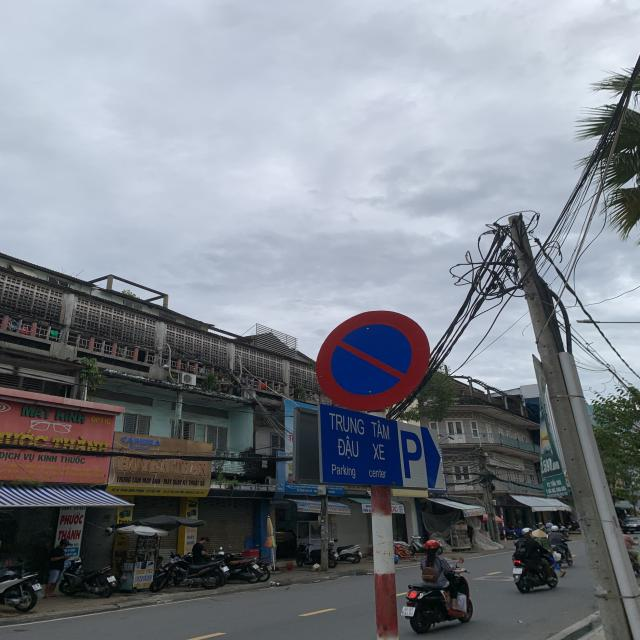Cam_Dau_Xe: (315, 310, 432, 412)
